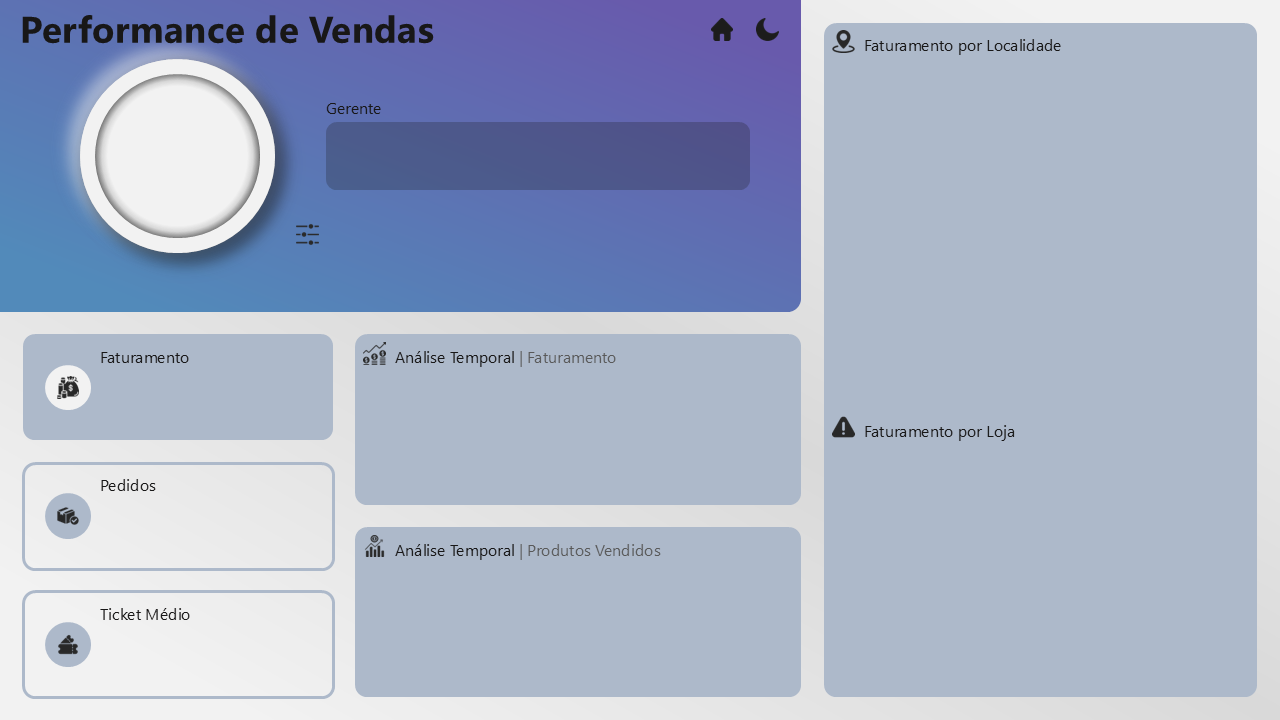

What the dashboard file says about the page in this screenshot:
{"tool":"powerbi","page":{"name":"Performance de Vendas Light","canvas":[1280,720],"ordinal":3},"visuals":[{"type":"cardVisual","fields":{"Data":["fPedidos.Faturamento"]},"box":[82.9,350.2,250,86.5],"z":0},{"type":"cardVisual","fields":{"Data":["fPedidos.Quantidade de Pedidos"]},"box":[82,478,250,86],"z":1000},{"type":"cardVisual","fields":{"Data":["fPedidos.Ticket Médio"]},"box":[82,608,250,86],"z":2000},{"type":"slicer","fields":{"Values":["lojas.Gerente"]},"box":[299.9,210.8,474.6,47.6],"z":3000},{"type":"areaChart","fields":{"Category":["calendario.mes"],"Y":["fPedidos.Faturamento"]},"box":[356.1,368.6,442.4,136],"z":4000},{"type":"card","fields":{"Values":["Min(lojas.Gerente)"]},"box":[326,122,424,68],"z":5000},{"type":"tableEx","fields":{"Values":["lojas.nome_loja","pedidos.Faturamento","Divide(pedidos.Faturamento, ScopedEval(pedidos.Faturamento, []))","SparklineData(pedidos.Faturamento_[calendario.mes])"]},"box":[826,446,430,254],"z":6000},{"type":"ImageGrid_FC5183B9_926C_45E0_B5F7_0CE9EAF1DA9B","fields":{"ImageURLHQ":["lojas.Imagem"]},"box":[89,56.5,176.4,198.5],"z":7000},{"type":"shapeMap","fields":{"Category":["dUnidadesFederativas.Estado"],"Value":["fPedidos.Faturamento"]},"box":[826,38,430,400],"z":8000},{"type":"areaChart","fields":{"Category":["calendario.mes"],"Y":["fPedidos.Quntidade de Produtos"]},"box":[356.4,560,442,136],"z":9000},{"type":"actionButton","box":[702,10.6,40,40],"z":10000},{"type":"actionButton","box":[748,9.7,39.7,40.6],"z":11000}]}

Visuals, with their boxes in screenshot pixels (x1, y1, x2, y2), scaled from the page's 1280x720 canvas onto the 1280x720 screenshot:
cardVisual - fPedidos.Faturamento: BBox(83, 350, 333, 437)
cardVisual - fPedidos.Quantidade de Pedidos: BBox(82, 478, 332, 564)
cardVisual - fPedidos.Ticket Médio: BBox(82, 608, 332, 694)
slicer - lojas.Gerente: BBox(300, 211, 774, 258)
areaChart - calendario.mes x fPedidos.Faturamento: BBox(356, 369, 798, 505)
card - Min(lojas.Gerente): BBox(326, 122, 750, 190)
tableEx - lojas.nome_loja x pedidos.Faturamento: BBox(826, 446, 1256, 700)
ImageGrid_FC5183B9_926C_45E0_B5F7_0CE9EAF1DA9B - lojas.Imagem: BBox(89, 56, 265, 255)
shapeMap - dUnidadesFederativas.Estado x fPedidos.Faturamento: BBox(826, 38, 1256, 438)
areaChart - calendario.mes x fPedidos.Quntidade de Produtos: BBox(356, 560, 798, 696)
actionButton: BBox(702, 11, 742, 51)
actionButton: BBox(748, 10, 788, 50)
